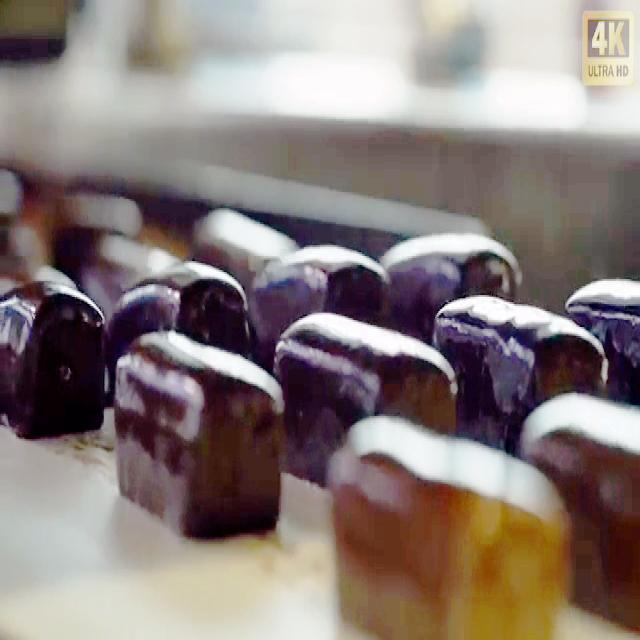Choco: (326, 412, 570, 634), (112, 325, 285, 539), (429, 286, 606, 456), (245, 240, 396, 376), (110, 252, 250, 386), (1, 269, 106, 439), (383, 229, 523, 333), (563, 270, 640, 407)
